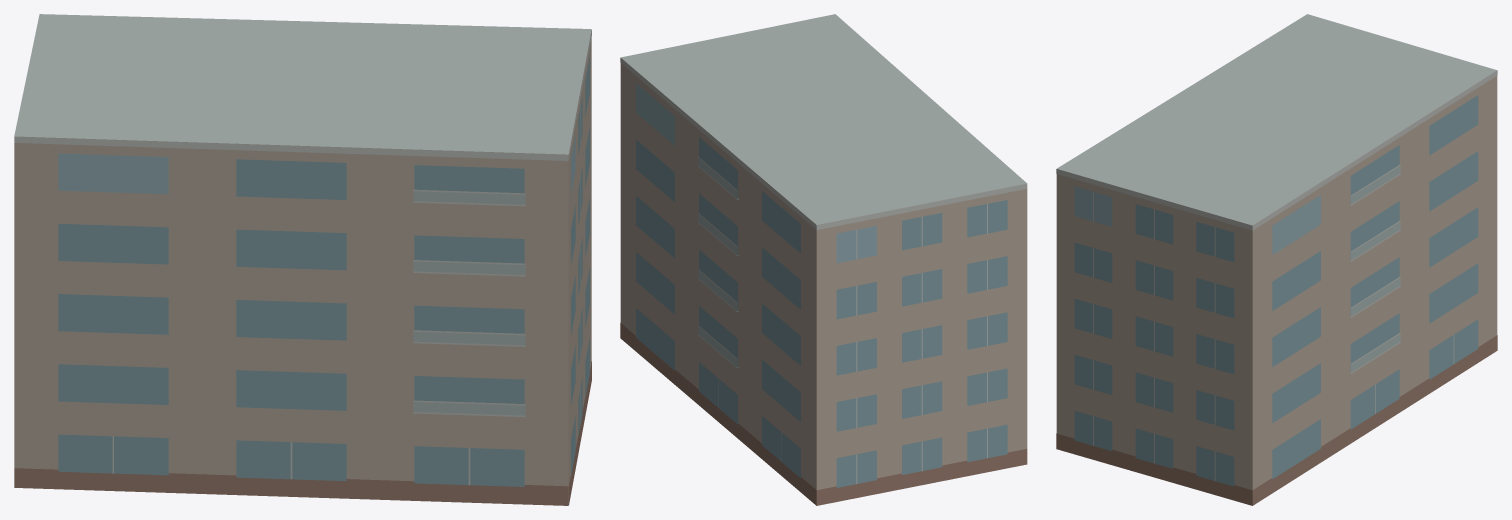
Rendered from survey-upis-32650680.glb.
The picture shows the model from 3 angles, left to right: view 1: azimuth 30°, elevation 25°; view 2: azimuth 150°, elevation 25°; view 3: azimuth 270°, elevation 25°; orthographic projection. The views are drawn at different scales.
Parts seen in each view (by area): view 1: survey-upis-32650680.tmp; view 2: survey-upis-32650680.tmp; view 3: survey-upis-32650680.tmp.
Part boxes in pixels (box(x1,y1,x2,y2)): survey-upis-32650680.tmp: box(14, 14, 591, 505); survey-upis-32650680.tmp: box(620, 14, 1027, 505); survey-upis-32650680.tmp: box(1056, 14, 1497, 505).
Bounding box in the file's own units: 21.53 × 13.3 × 18.97.
